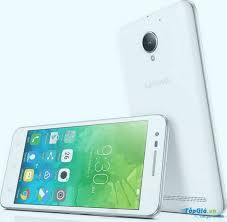lenovo: (1, 119, 170, 217)
